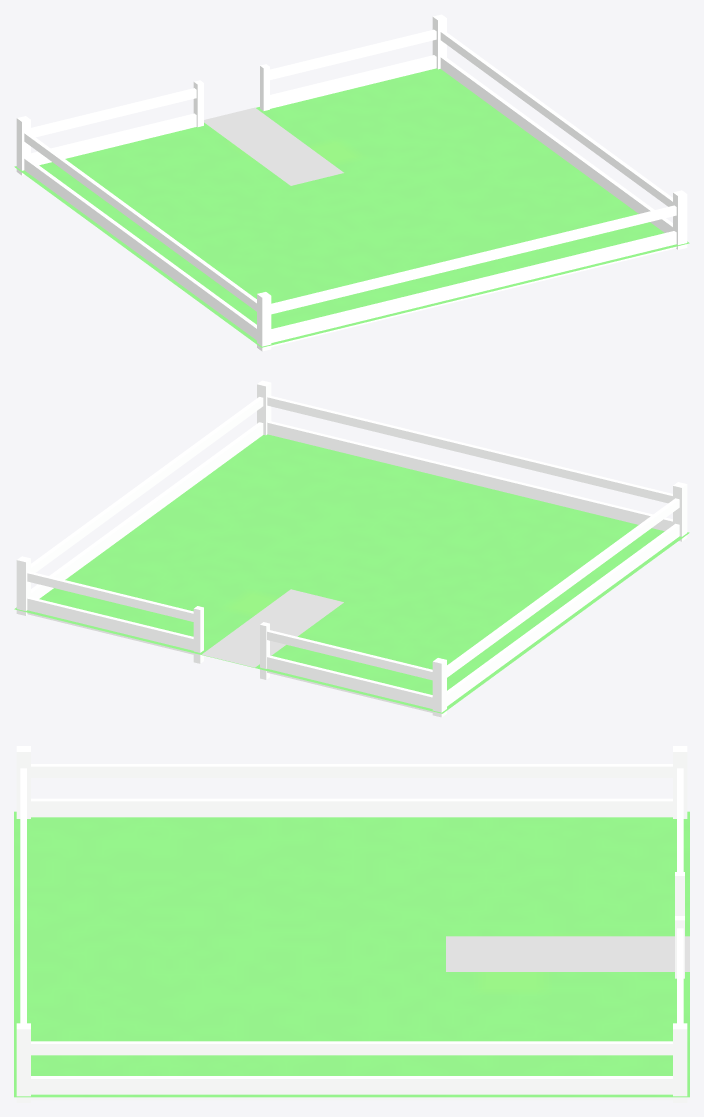
The model's file is tile_for_home_1x1.001.glb.
3 renders of one model, top to bottom at view 1: azimuth 30°, elevation 25°; view 2: azimuth 150°, elevation 25°; view 3: azimuth 270°, elevation 25°, orthographic. The views are drawn at different scales.
Parts seen in each view (by area): view 1: tile_for_home_1x1.001(Clone); view 2: tile_for_home_1x1.001(Clone); view 3: tile_for_home_1x1.001(Clone).
Part boxes in pixels (bbox=[...]): tile_for_home_1x1.001(Clone): bbox=[14, 14, 689, 351]; tile_for_home_1x1.001(Clone): bbox=[14, 380, 689, 717]; tile_for_home_1x1.001(Clone): bbox=[14, 746, 689, 1102].
Size of the model in its own units: 8 by 1.07 by 8.
Materials: 1 (1 with a texture image).
